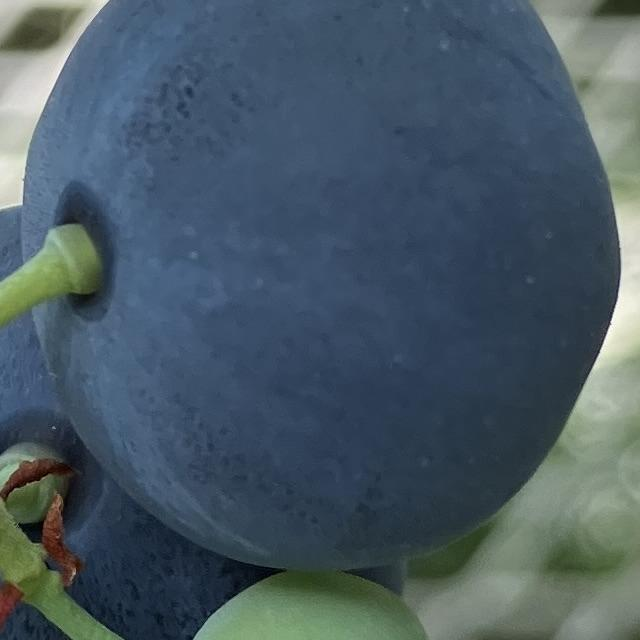Blueberries: (13, 0, 621, 574), (151, 566, 545, 640)
